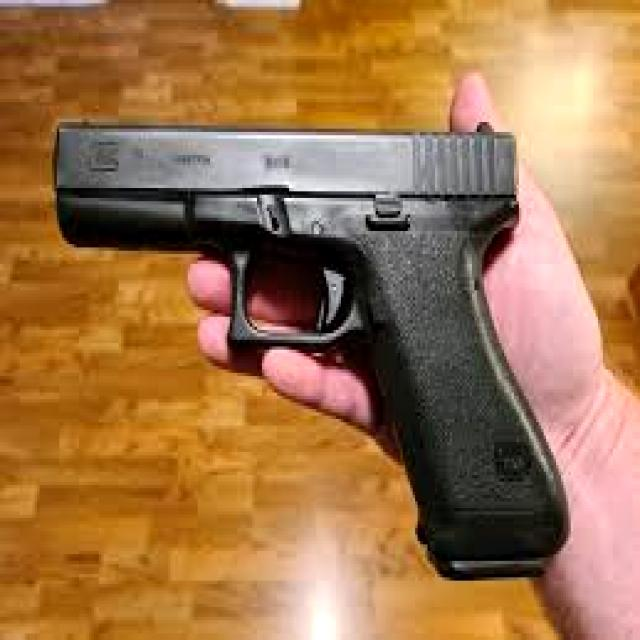semi automatic: (37, 62, 636, 631)
